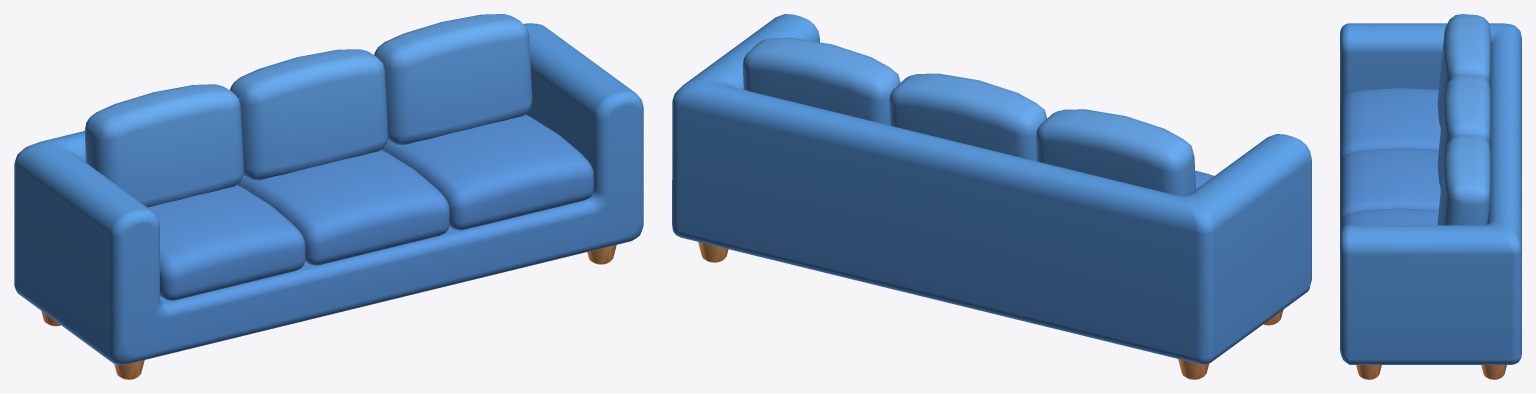
File: cute-furniture-glb-couch-08.glb
3 renders of one model, left to right at view 1: azimuth 30°, elevation 25°; view 2: azimuth 150°, elevation 25°; view 3: azimuth 270°, elevation 25°, orthographic. The views are drawn at different scales.
Visible parts, largest first — view 1: Couch_08; view 2: Couch_08; view 3: Couch_08.
Part boxes in pixels (left/top/right/bottom): Couch_08: left=14, top=14, right=643, bottom=379; Couch_08: left=672, top=14, right=1311, bottom=379; Couch_08: left=1340, top=14, right=1521, bottom=379.
Size of the model in its own units: 2.21 by 0.8621 by 0.765.
1 material, 1 textured.
